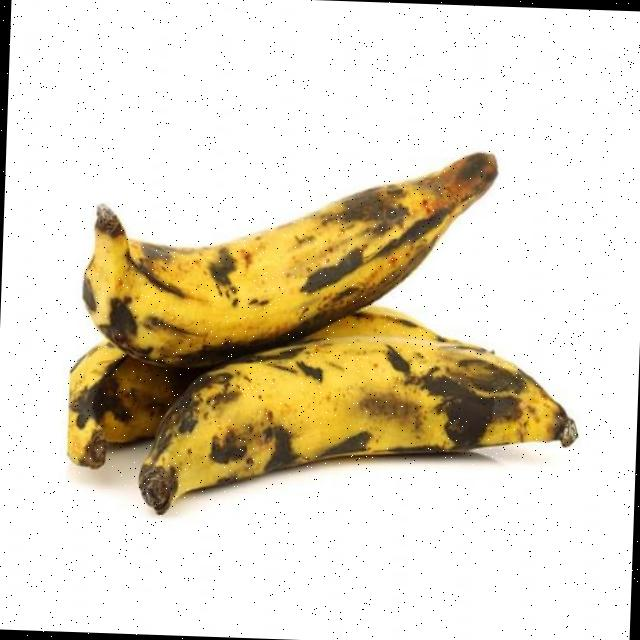banana-peel: (77, 135, 499, 379), (134, 314, 580, 528), (64, 338, 189, 472)
